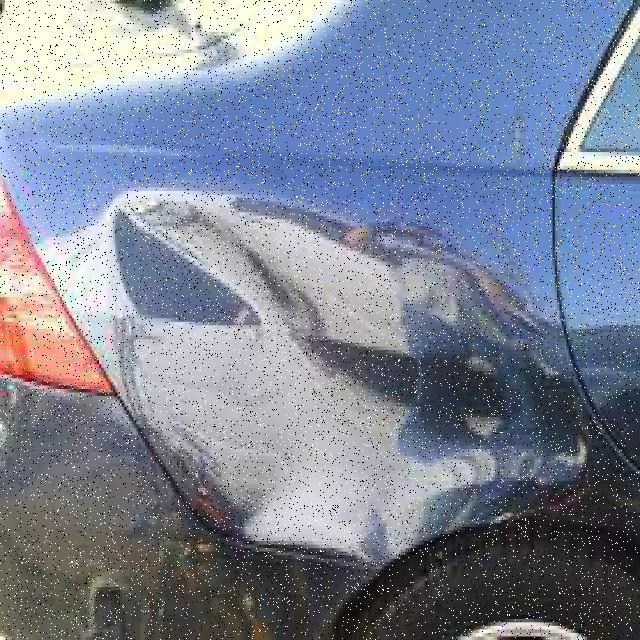quaterpanel-dent: (101, 57, 594, 630)
